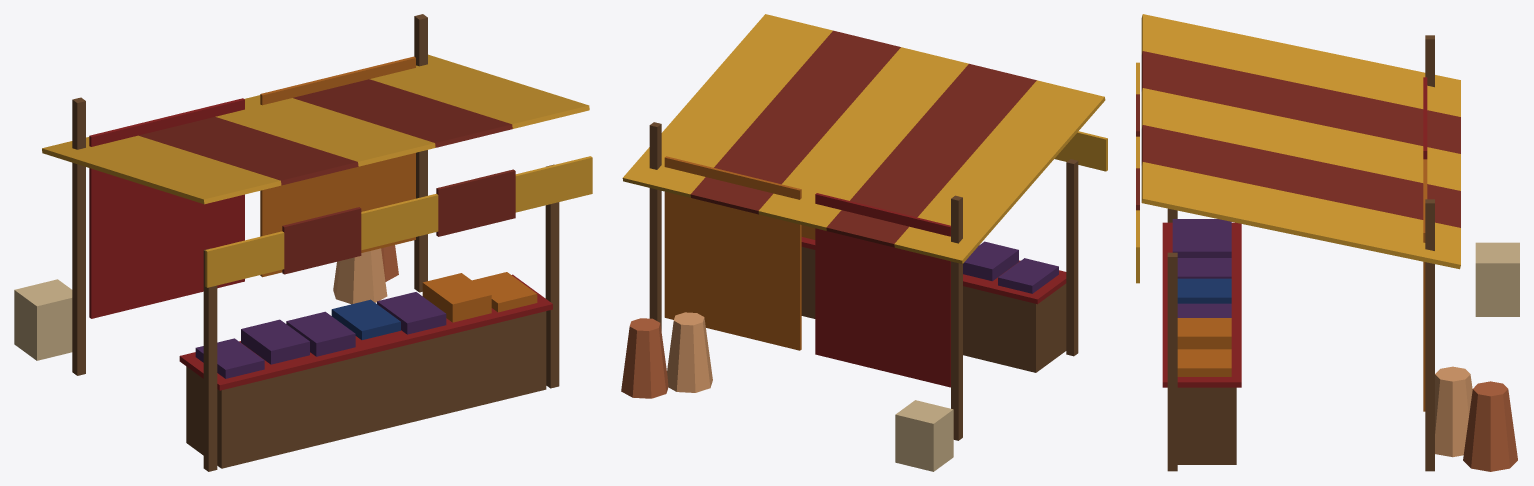
File: stall_cloth.glb
3 renders of one model, left to right at view 1: azimuth 30°, elevation 25°; view 2: azimuth 150°, elevation 25°; view 3: azimuth 270°, elevation 25°, orthographic. The views are drawn at different scales.
Parts seen in each view (by area): view 1: Stall; view 2: Stall; view 3: Stall.
Part boxes in pixels (x1,y1,x2,y2): Stall: [14, 14, 592, 471]; Stall: [621, 14, 1107, 471]; Stall: [1136, 14, 1519, 471].
Bounding box in the file's own units: 4.44 × 3.15 × 3.89.
